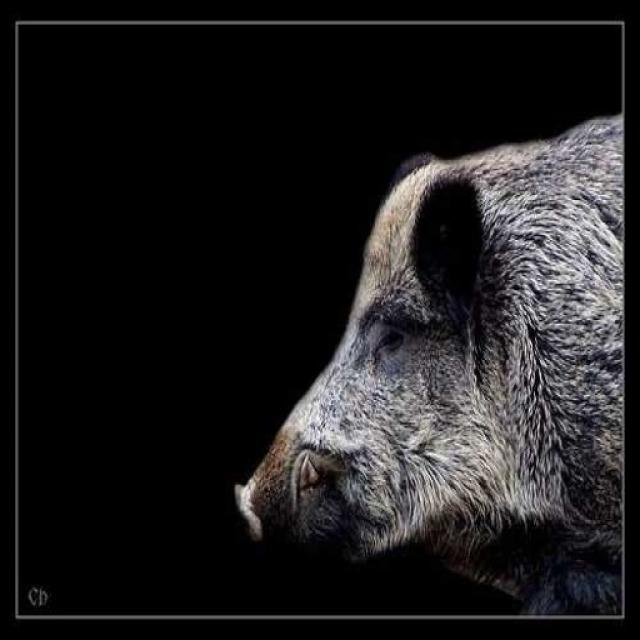pig: (222, 61, 639, 640)
